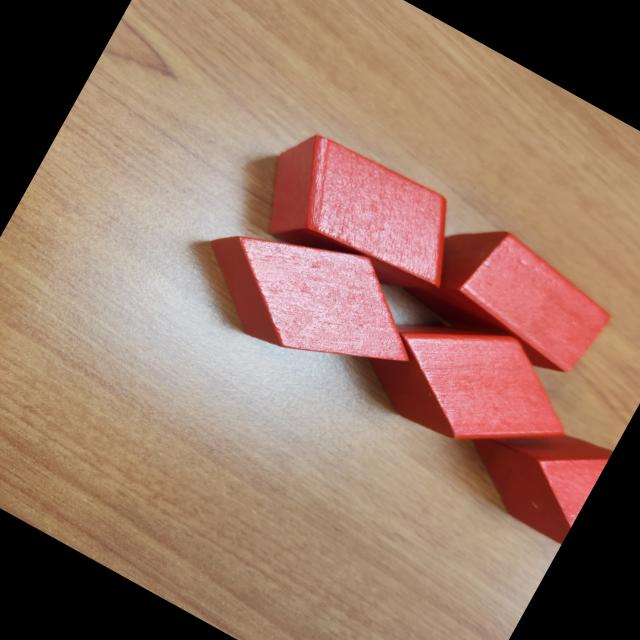red: (182, 188, 430, 406), (350, 278, 592, 488), (242, 116, 472, 316), (404, 203, 626, 391), (448, 388, 614, 546)
